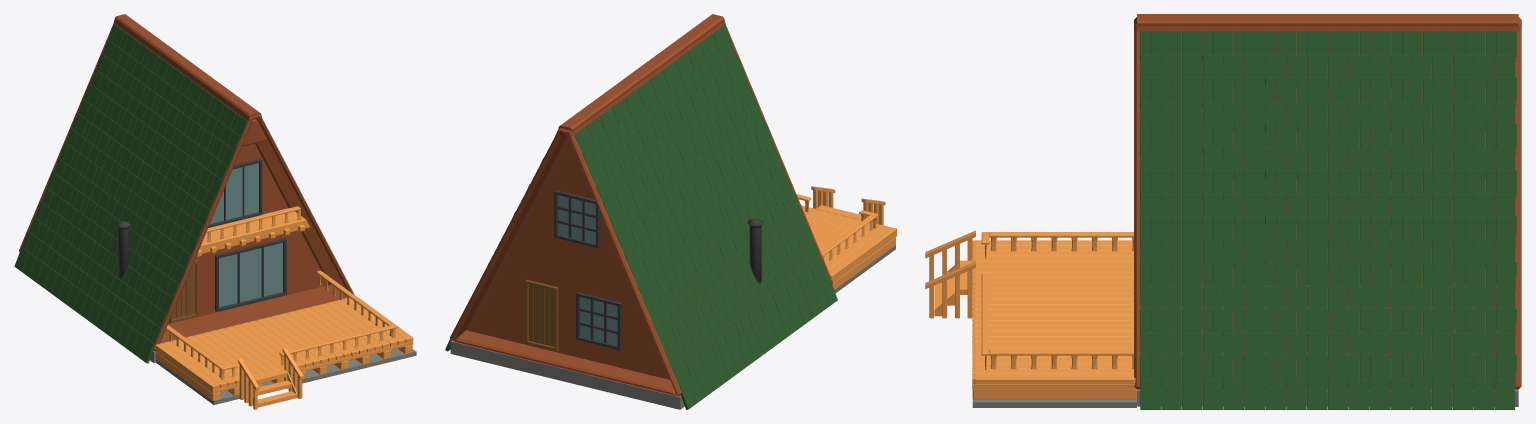
The model's file is aframe.glb.
3 renders of one model, left to right at view 1: azimuth 30°, elevation 25°; view 2: azimuth 150°, elevation 25°; view 3: azimuth 270°, elevation 25°, orthographic. The views are drawn at different scales.
Visible parts, largest first — view 1: cabin; view 2: cabin; view 3: cabin.
Part boxes in pixels (box(x1,y1,x2,y2)): cabin: box(14, 14, 416, 409); cabin: box(445, 14, 896, 409); cabin: box(925, 14, 1521, 409).
Size of the model in its own units: 1091 by 1092 by 1845.
